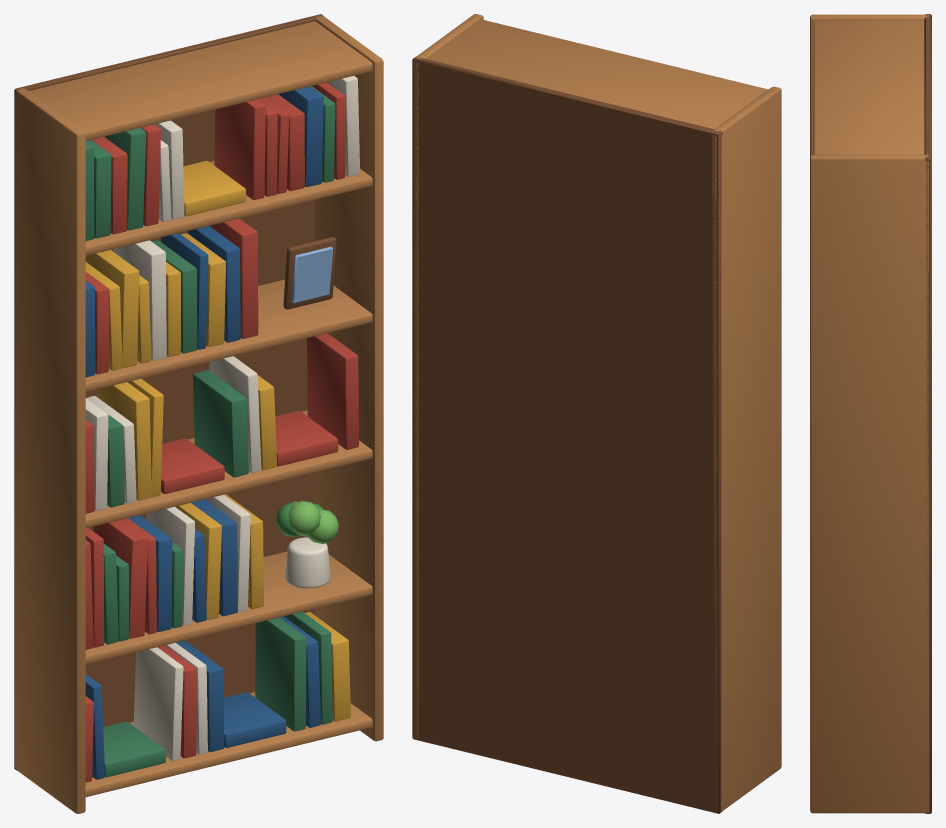
Rendered from estante_livros.glb.
The picture shows the model from 3 angles, left to right: view 1: azimuth 30°, elevation 25°; view 2: azimuth 150°, elevation 25°; view 3: azimuth 270°, elevation 25°; orthographic projection. The views are drawn at different scales.
Parts seen in each view (by area): view 1: Cube, Cube.001, Cube.002, Cube.074, Cube.044, Cube.016, Cube.043, Cube.012, Cube.003, Cube.031, Cube.039, Cube.057 (+68 smaller); view 2: Cube.002, Cube, Cube.074, Cube.001; view 3: Cube.001, Cube.074, Cube.002, Cube.
Boxes of the visible parts, x1,y1,x2,y2 form: Cube: [15, 87, 85, 813]; Cube.001: [315, 15, 383, 741]; Cube.002: [14, 14, 324, 770]; Cube.074: [29, 21, 372, 140]; Cube.044: [85, 279, 372, 391]; Cube.016: [85, 551, 372, 664]; Cube.043: [307, 333, 358, 449]; Cube.012: [255, 617, 306, 731]; Cube.003: [85, 692, 372, 796]; Cube.031: [85, 410, 372, 528]; Cube.039: [193, 370, 248, 477]; Cube.057: [85, 160, 372, 255]; Cube.002: [412, 56, 722, 813]; Cube: [712, 86, 781, 810]; Cube.074: [428, 19, 768, 129]; Cube.001: [414, 14, 483, 738]; Cube.001: [810, 154, 928, 813]; Cube.074: [813, 20, 924, 154]; Cube.002: [924, 14, 931, 813]; Cube: [810, 14, 928, 156].
Size of the model in its own units: 0.9 by 1.9 by 0.32.
